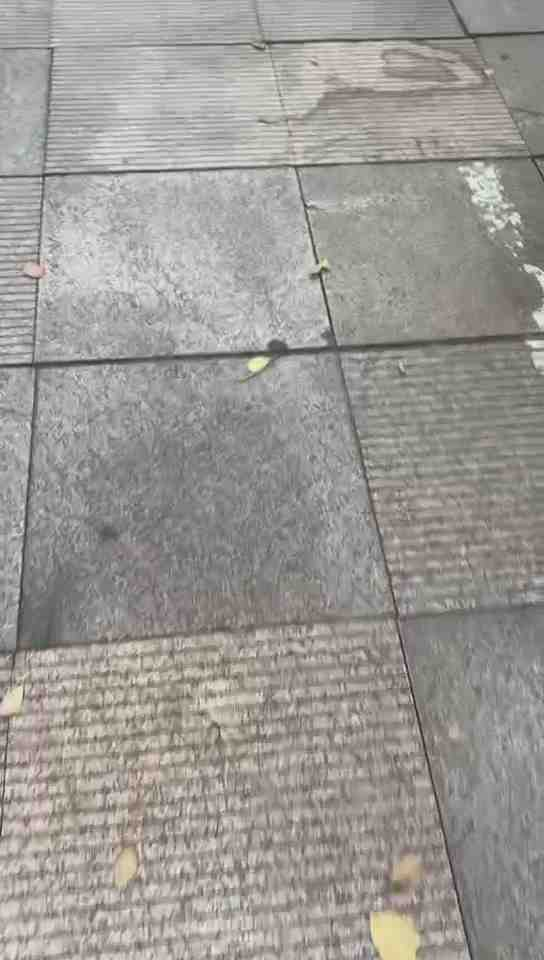leaf: (377, 843, 426, 908), (106, 838, 147, 898), (234, 354, 272, 382)
